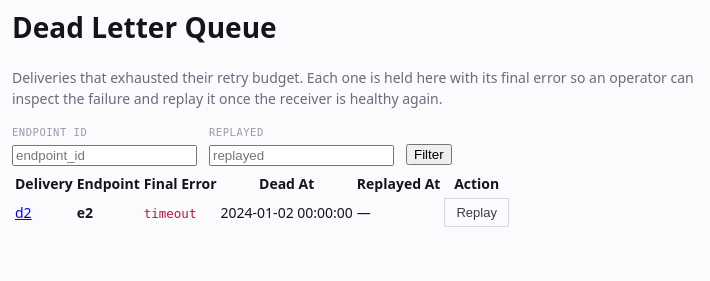
DLQ replay › shows 409 error when not replayable
Expected: the link "d2" is shown, top-left (15, 203), bottom-right (32, 222)
Click the button "Replay" at (477, 213), box top-left (444, 198), bottom-right (509, 227)
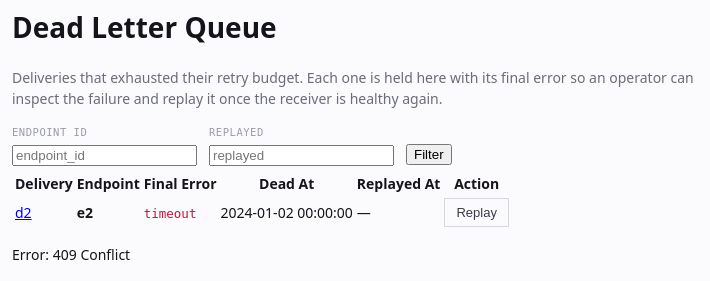
Expected: the text "Error: 409 Conflict" is shown, top-left (12, 245), bottom-right (130, 264)
